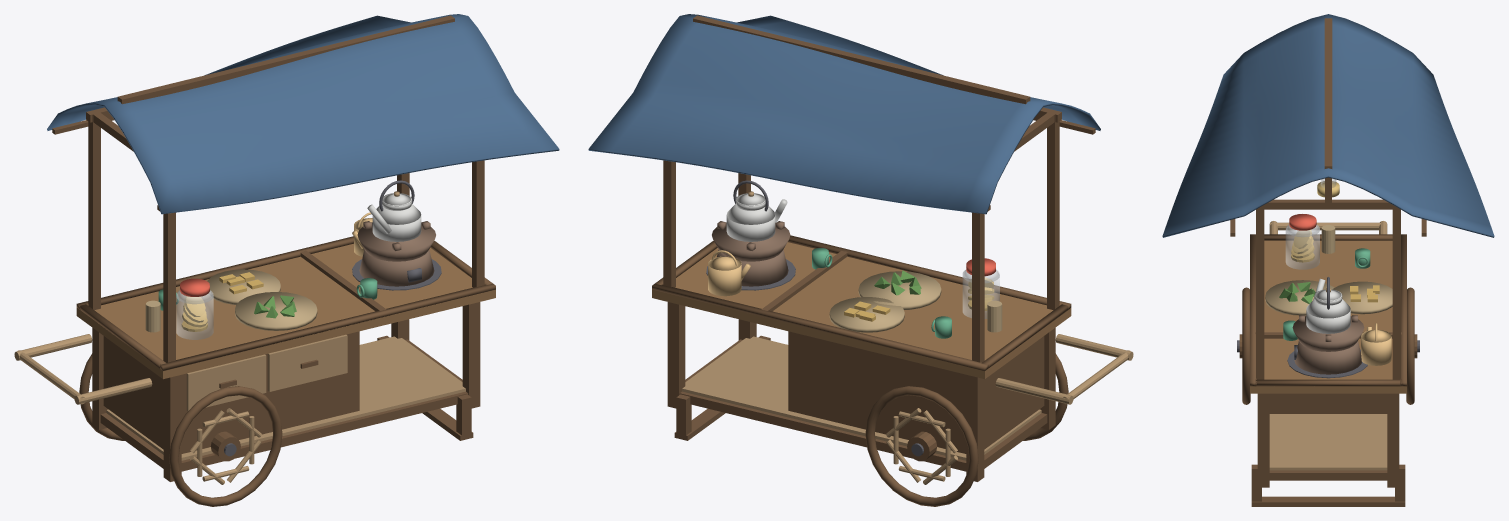
Rendered from angkringan.glb.
The picture shows the model from 3 angles, left to right: view 1: azimuth 30°, elevation 25°; view 2: azimuth 150°, elevation 25°; view 3: azimuth 270°, elevation 25°; orthographic projection. The views are drawn at different scales.
Visible parts, largest first — view 1: Angkringan_TarpRoof, TableTop, CabinetBox, BottomShelfPlanks, WheelRim_Front, DrawerFace2, RidgeBeam, TableRim_Front, LegBrace_Front, DrawerFace1, RoofPost_2, TampahNasi_Rim (+19 smaller); view 2: Angkringan_TarpRoof, CabinetBox, TableTop, BottomShelfPlanks, WheelRim_Back, RidgeBeam, TableRim_Back, LegBrace_Back, RoofPost_1, RoofPost_2, TableRim_Front, TampahNasi_Rim (+19 smaller); view 3: Angkringan_TarpRoof, TableTop, BottomShelfPlanks, CabinetBox, RestingFoot_Plate, AngloBase, RoofPost_3, RoofPost_4, GlassJar_Body, AngloTop, RidgeBeam, RoofBeam_Right (+18 smaller).
Part boxes in pixels (x1,y1,x2,y2): Angkringan_TarpRoof: (47,14,559,214); TableTop: (76,243,495,379); CabinetBox: (103,331,359,453); BottomShelfPlanks: (106,336,465,460); WheelRim_Front: (169,386,282,506); DrawerFace2: (267,334,347,391); RidgeBeam: (117,15,454,104); TableRim_Front: (160,283,495,370); LegBrace_Front: (181,391,468,471); DrawerFace1: (186,354,266,411); RoofPost_2: (88,115,100,310); TampahNasi_Rim: (235,292,317,330); Angkringan_TarpRoof: (588,14,1100,214); CabinetBox: (788,331,1044,453); TableTop: (652,242,1071,379); BottomShelfPlanks: (682,336,1041,460); WheelRim_Back: (865,386,978,506); RidgeBeam: (693,15,1030,104); TableRim_Back: (652,283,988,370); LegBrace_Back: (679,391,966,471); RoofPost_1: (1047,115,1059,310); RoofPost_2: (972,212,984,362); TableRim_Front: (788,235,1071,310); TampahNasi_Rim: (858,271,941,309); Angkringan_TarpRoof: (1162,14,1494,237); TableTop: (1250,240,1406,393); BottomShelfPlanks: (1269,414,1387,470); CabinetBox: (1269,393,1387,413); RestingFoot_Plate: (1251,496,1405,506); AngloBase: (1294,341,1361,374); RoofPost_3: (1256,205,1264,379); RoofPost_4: (1392,205,1400,379); GlassJar_Body: (1285,225,1319,269); AngloTop: (1292,316,1364,351); RidgeBeam: (1324,18,1332,168); RoofBeam_Right: (1264,199,1392,209).
Bounding box in the file's own units: 2.6 × 2.29 × 1.94.
